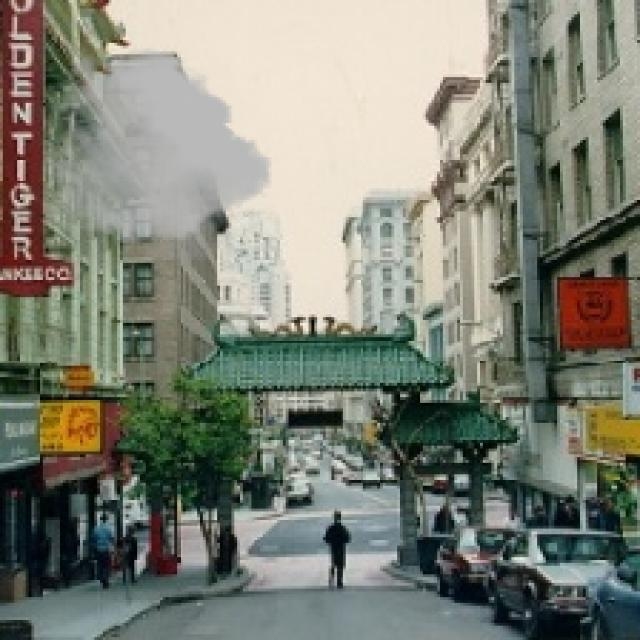smoke: (48, 45, 272, 268)
